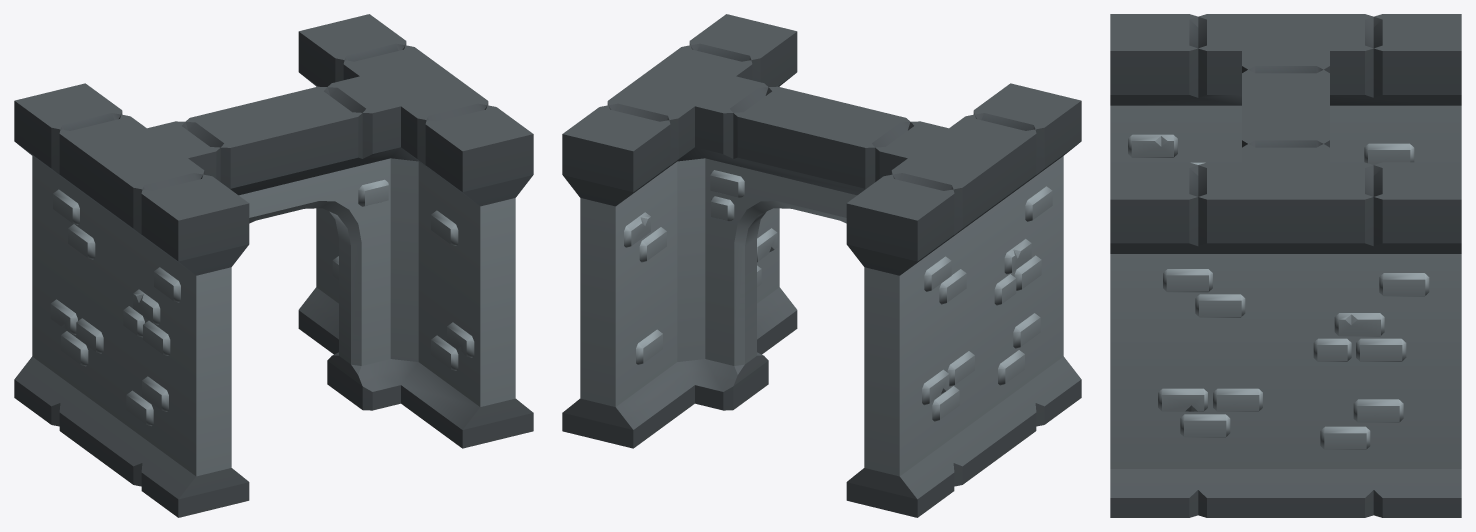
The model's file is wall_doorway_sides.glb.
3 renders of one model, left to right at view 1: azimuth 30°, elevation 25°; view 2: azimuth 150°, elevation 25°; view 3: azimuth 270°, elevation 25°, orthographic. The views are drawn at different scales.
Visible parts, largest first — view 1: wall_doorway_sides; view 2: wall_doorway_sides; view 3: wall_doorway_sides.
Boxes of the visible parts, x1,y1,x2,y2 form: wall_doorway_sides: (14, 14, 533, 517); wall_doorway_sides: (562, 14, 1081, 517); wall_doorway_sides: (1110, 14, 1461, 517).
Size of the model in its own units: 5 by 4 by 4.
1 material, 1 textured.
